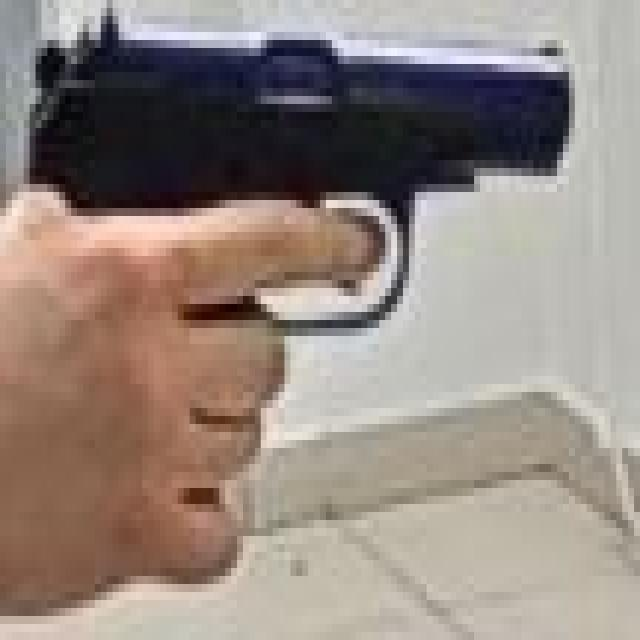-Gun: (24, 9, 574, 340)
